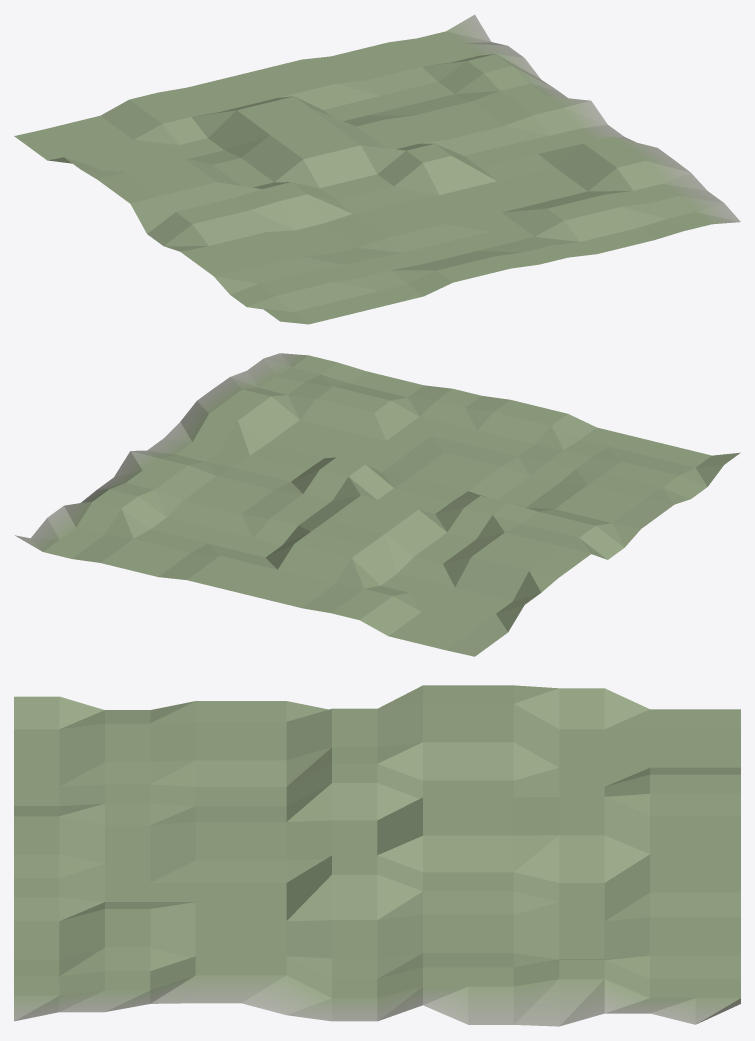
3 views of the same model, one above another, from view 1: azimuth 30°, elevation 25°; view 2: azimuth 150°, elevation 25°; view 3: azimuth 270°, elevation 25° (orthographic). The views are drawn at different scales.
Size of the model in its own units: 32 by 1.83 by 32.
